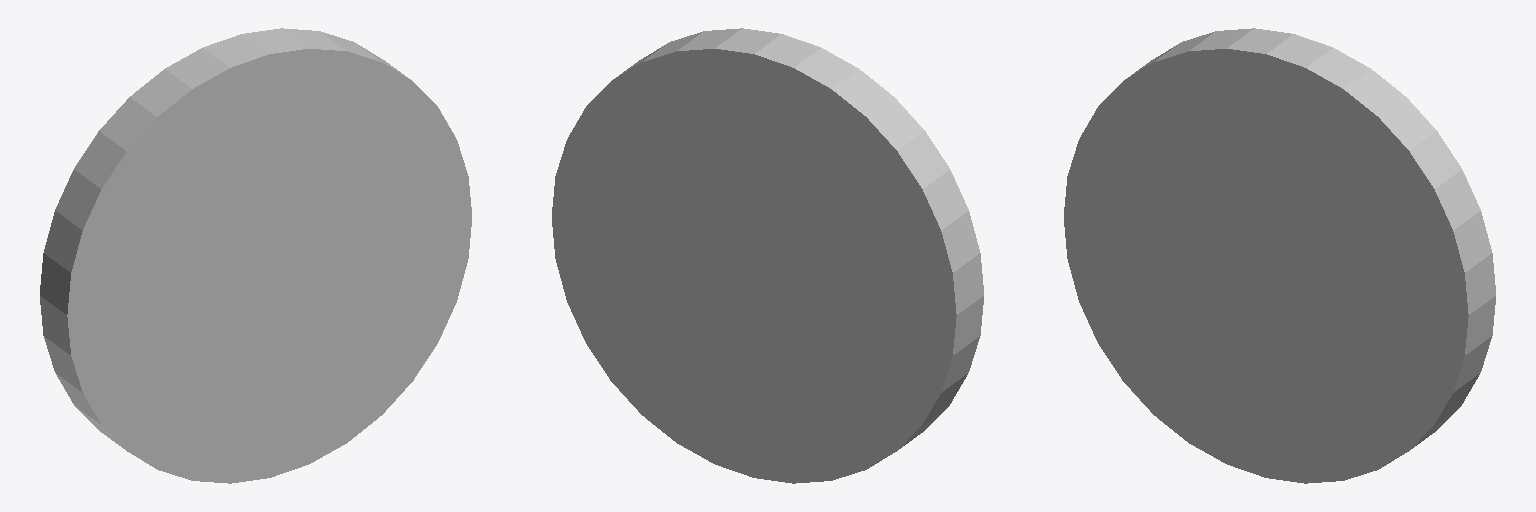
File: circleperson2head.obj
3 views of the same model, side by side, from view 1: azimuth 30°, elevation 25°; view 2: azimuth 150°, elevation 25°; view 3: azimuth 330°, elevation 25° (orthographic).
Visible parts, largest first — view 1: Circle.001; view 2: Circle.001; view 3: Circle.001.
Boxes of the visible parts, box(x1,y1,x2,y2) form: Circle.001: box(40, 28, 471, 483); Circle.001: box(552, 28, 983, 483); Circle.001: box(1064, 28, 1495, 483).
Bounding box in the file's own units: 1.73 × 1.73 × 0.2059.